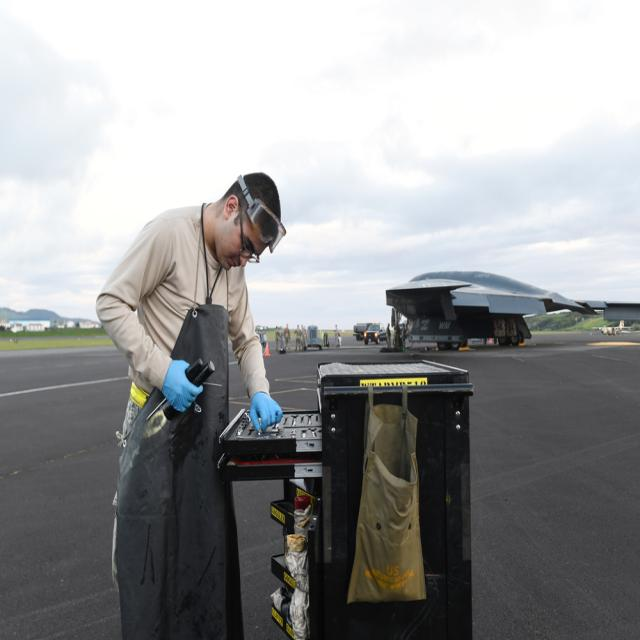MIL_Plane: (449, 270, 576, 351), (603, 321, 614, 335)
